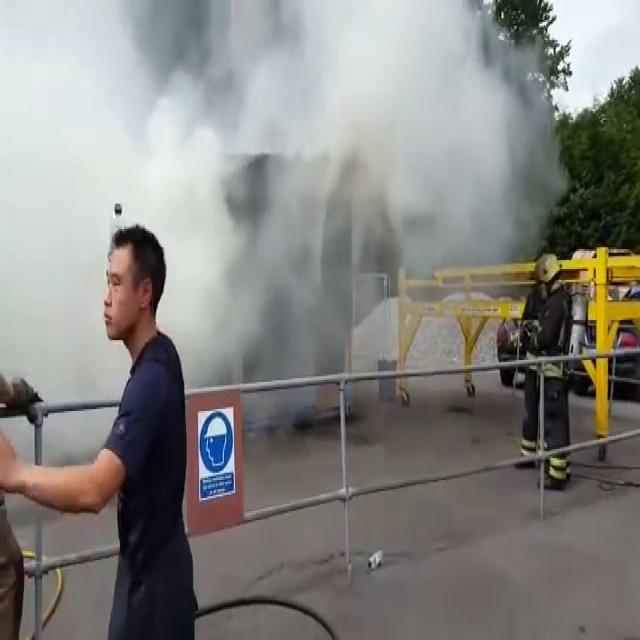Smoke: (0, 40, 496, 398)
